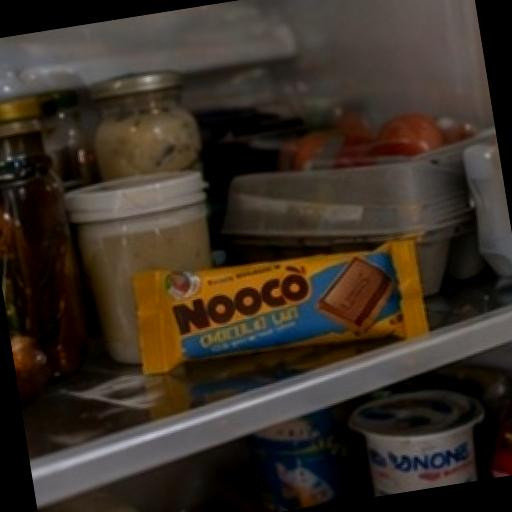nooco: (72, 182, 486, 456)
